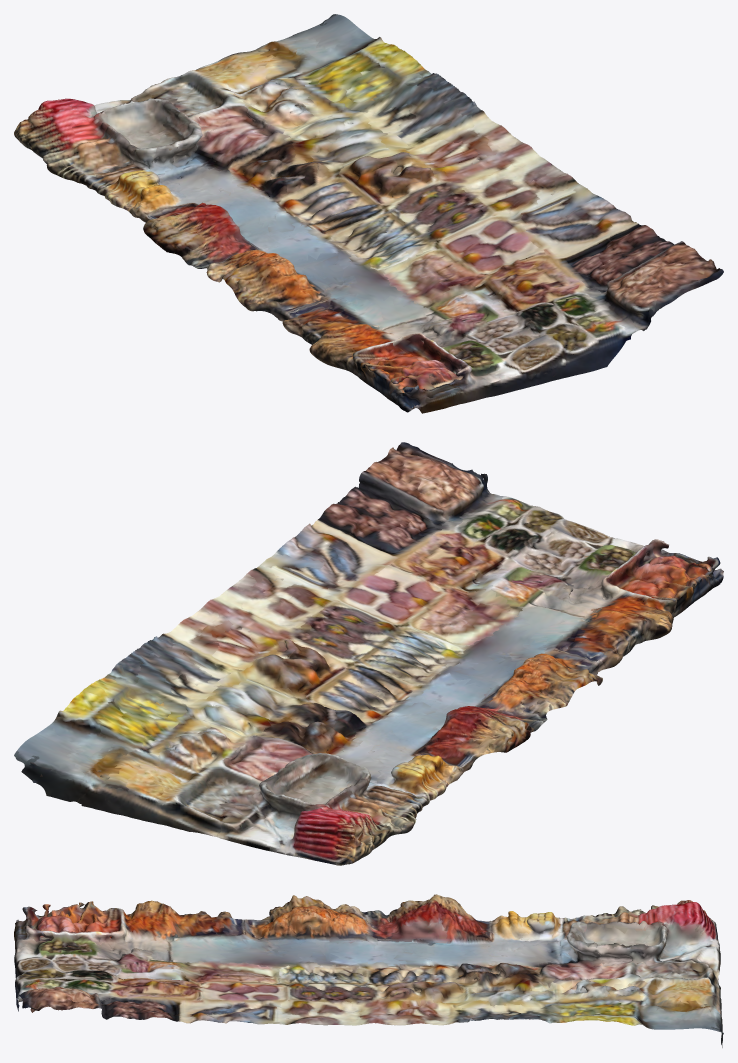
File: asian_wet_market_barbecue_street_food_stall_scan.glb
3 views of the same model, one above another, from view 1: azimuth 30°, elevation 25°; view 2: azimuth 150°, elevation 25°; view 3: azimuth 270°, elevation 25° (orthographic). The views are drawn at different scales.
Parts seen in each view (by area): view 1: Object_4; view 2: Object_4; view 3: Object_4.
Part boxes in pixels (box(x1,y1,x2,y2)): Object_4: box(14, 14, 723, 413); Object_4: box(14, 442, 723, 865); Object_4: box(14, 894, 723, 1047).
Bounding box in the file's own units: 1.44 × 0.2594 × 2.86.
Materials: 1 (1 with a texture image).
